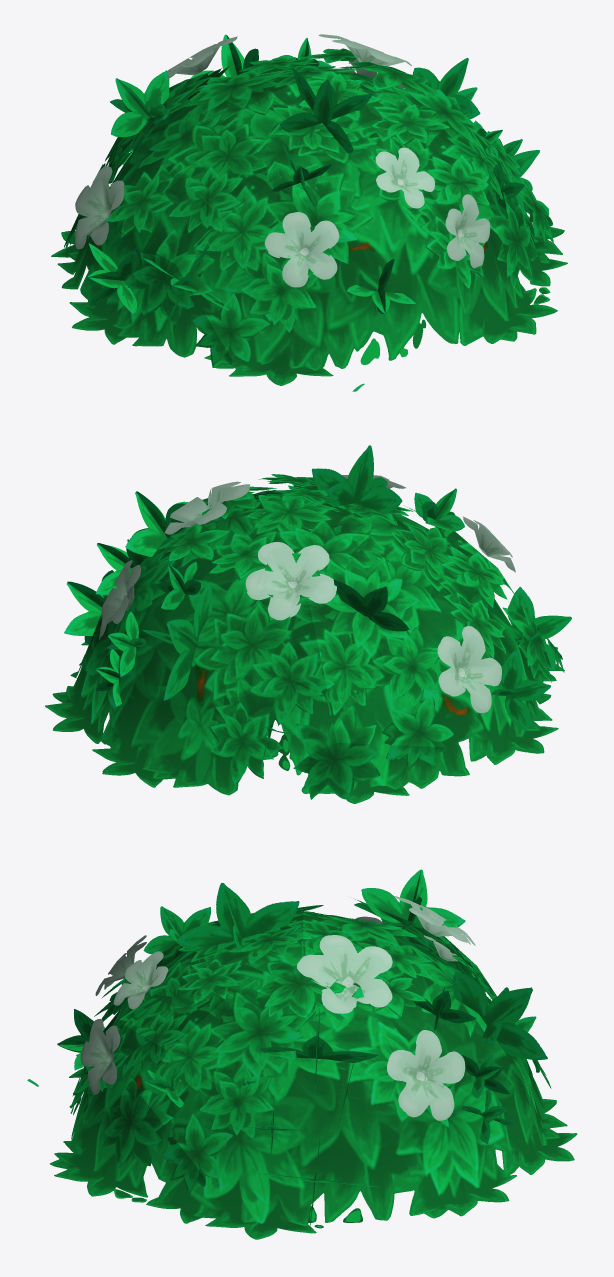
The model's file is 2_Arbusto_Verde_Oscuro.fbx.
3 views of the same model, one above another, from view 1: azimuth 30°, elevation 25°; view 2: azimuth 150°, elevation 25°; view 3: azimuth 270°, elevation 25° (orthographic). The views are drawn at different scales.
Visible parts, largest first — view 1: 2_Arbusto_Verde_Oscuro; view 2: 2_Arbusto_Verde_Oscuro; view 3: 2_Arbusto_Verde_Oscuro.
Part boxes in pixels (x1,y1,x2,y2): 2_Arbusto_Verde_Oscuro: (51,34,567,391); 2_Arbusto_Verde_Oscuro: (45,445,571,803); 2_Arbusto_Verde_Oscuro: (27,869,577,1239).
Bounding box in the file's own units: 356 × 193 × 350.
